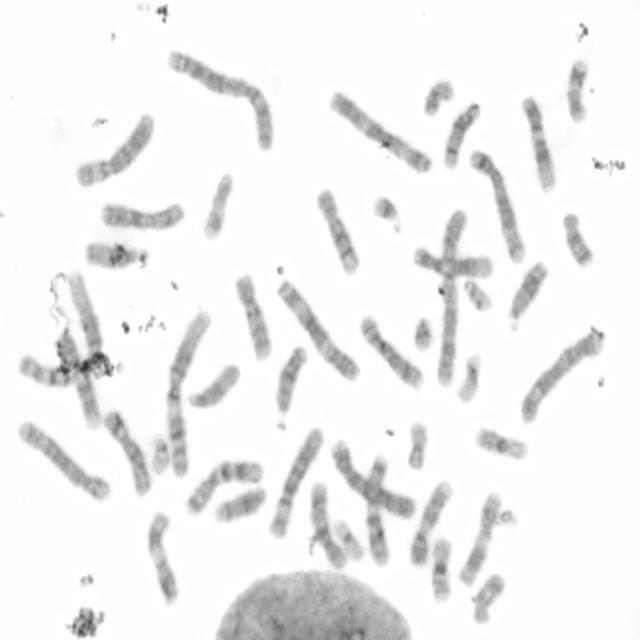A1: (14, 268, 114, 390), (162, 305, 212, 482)
A2: (162, 45, 278, 154), (432, 202, 469, 390)
A3: (324, 85, 434, 176), (273, 274, 362, 384)
B4: (517, 325, 606, 427), (328, 433, 417, 521)
B5: (14, 416, 112, 502), (467, 143, 528, 264)
C10: (231, 267, 274, 362), (308, 476, 350, 570)
C11: (455, 487, 503, 587), (143, 506, 180, 607)
C12: (517, 89, 559, 194), (409, 242, 494, 280)
C6: (264, 421, 327, 541), (70, 107, 158, 190)
C7: (179, 454, 266, 518), (362, 451, 393, 566)
C8: (356, 309, 426, 392), (313, 183, 362, 278)
C9: (53, 327, 104, 433), (405, 474, 456, 570)
D13: (504, 255, 550, 332), (270, 342, 309, 418)
D14: (439, 97, 483, 171), (210, 481, 268, 526)
D15: (184, 359, 242, 410), (82, 239, 149, 272)
E16: (472, 422, 530, 463), (426, 532, 455, 605)
E17: (200, 167, 236, 242), (562, 55, 592, 126)
E18: (468, 568, 508, 626), (559, 206, 595, 270)
F19: (452, 348, 484, 404), (330, 515, 365, 563)
F20: (419, 74, 456, 118), (401, 417, 430, 472)
G21: (369, 189, 406, 236), (408, 311, 436, 353)
G22: (459, 274, 493, 313), (146, 430, 172, 477)
X: (100, 404, 154, 498), (97, 196, 187, 232)
